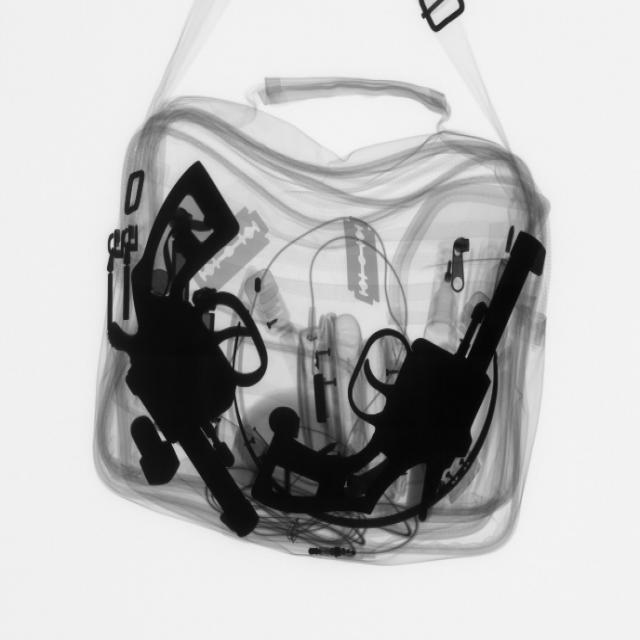BLADE: (202, 207, 274, 294), (335, 211, 391, 314)
GUN: (263, 253, 527, 529), (109, 187, 277, 544)
